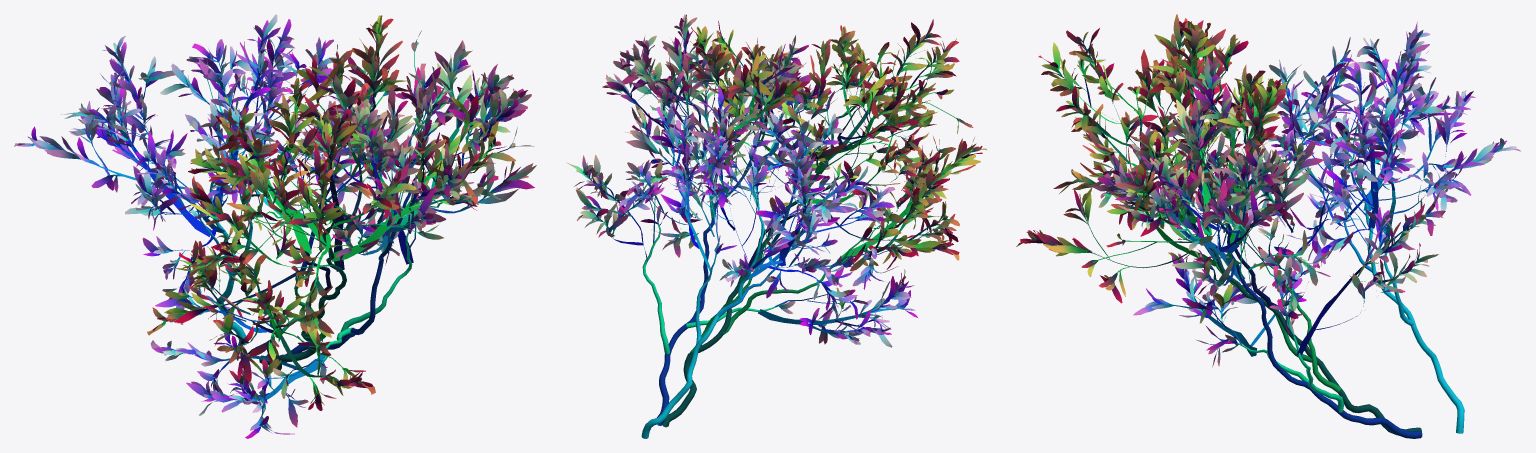
The model's file is Downy_Willow_wknlfiuqx_Mid_wknlfiuqx_VarG_LOD1.fbx.
The picture shows the model from 3 angles, left to right: view 1: azimuth 30°, elevation 25°; view 2: azimuth 150°, elevation 25°; view 3: azimuth 270°, elevation 25°; orthographic projection. The views are drawn at different scales.
Parts seen in each view (by area): view 1: _4pzp_VarG_LOD2; view 2: _4pzp_VarG_LOD2; view 3: _4pzp_VarG_LOD2.
Boxes of the visible parts, <box> form: _4pzp_VarG_LOD2: <box>14,14,536,438</box>; _4pzp_VarG_LOD2: <box>566,14,986,438</box>; _4pzp_VarG_LOD2: <box>1016,14,1520,438</box>.
Bounding box in the file's own units: 163 × 157 × 192.
